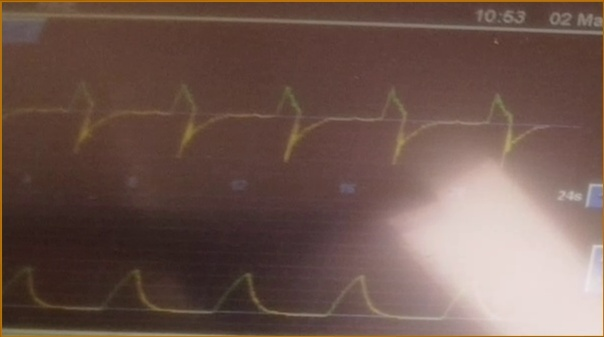Accumulation Flow: (4, 68, 556, 173)
Volume: (3, 234, 498, 327)
